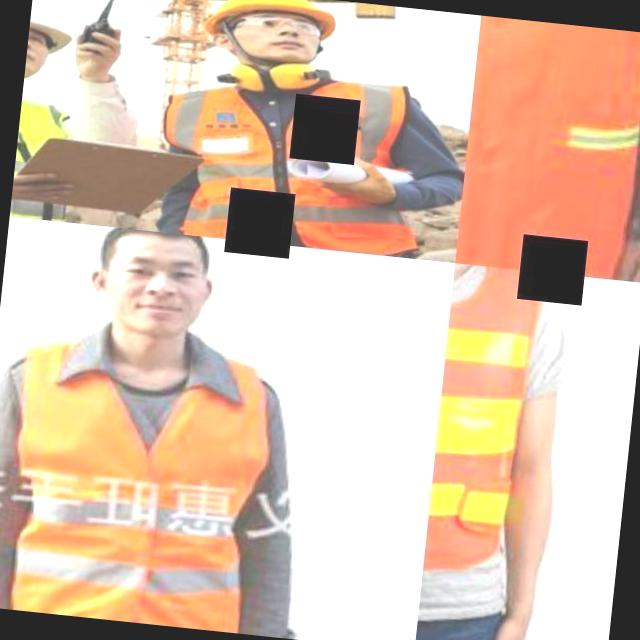vest: (0, 315, 301, 637), (167, 41, 428, 258), (419, 263, 581, 612), (454, 15, 640, 283), (9, 94, 88, 222)
